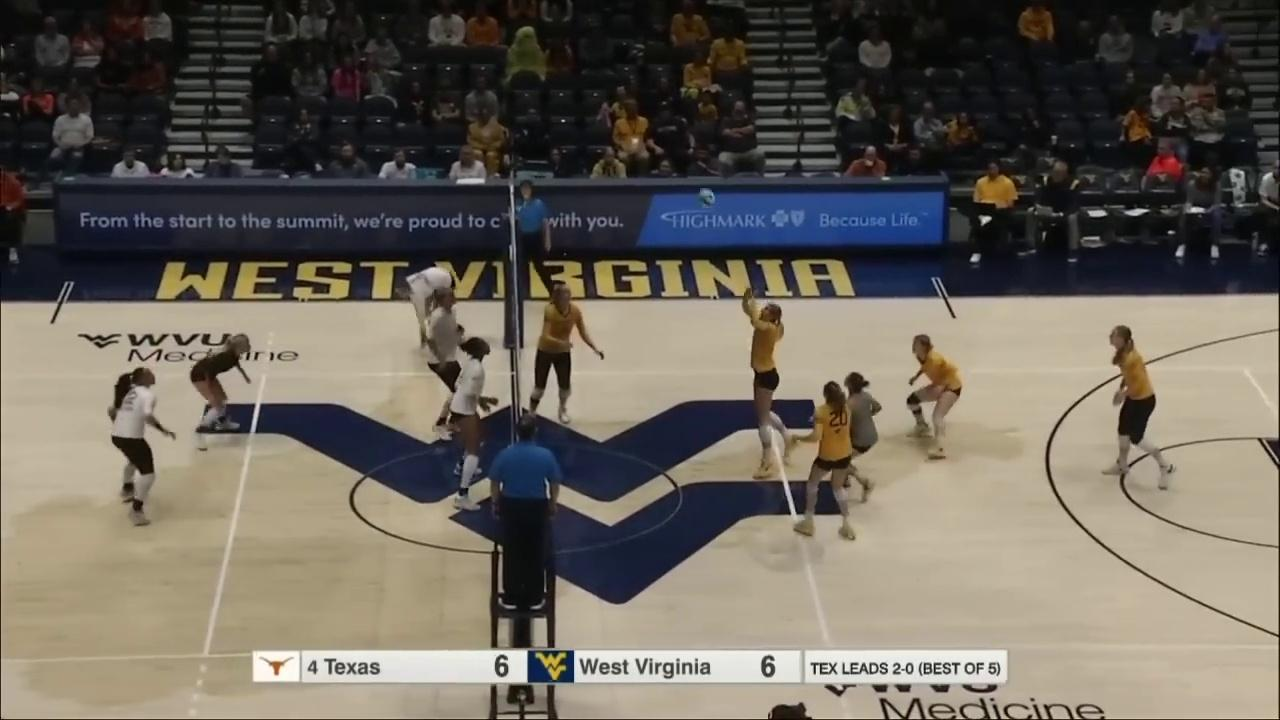player: (524, 283, 608, 422), (1107, 327, 1179, 486), (744, 285, 800, 474), (110, 368, 173, 529), (793, 383, 858, 539), (453, 337, 497, 511), (905, 334, 964, 459), (191, 333, 253, 451), (425, 289, 469, 441), (396, 266, 467, 353), (834, 373, 881, 503)
refree: (491, 421, 559, 608), (511, 181, 557, 299)
